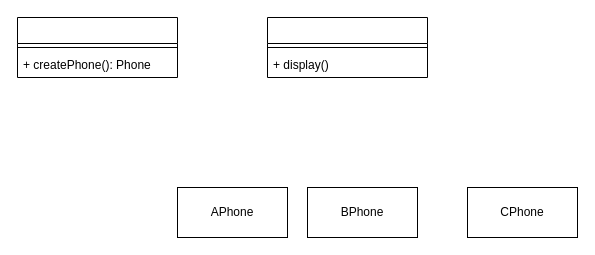
This 595x255 diagram has some shape labels left out. Each missing label, with the box of its shape:
Factory: (16, 16, 178, 78)
Phone: (266, 16, 428, 78)
